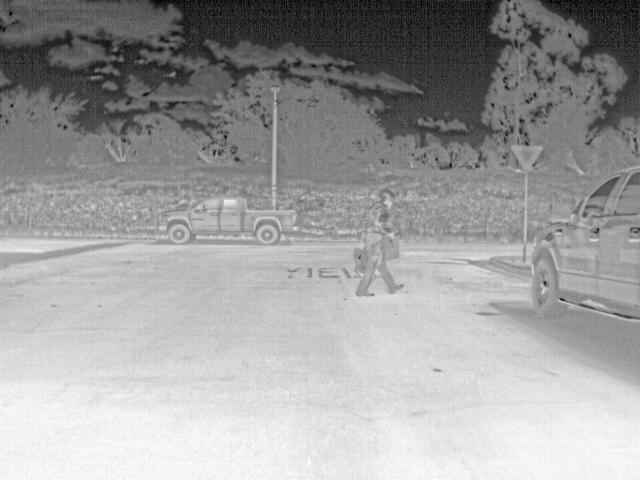car: (531, 165, 639, 328), (158, 193, 298, 245)
person: (353, 189, 405, 299)
